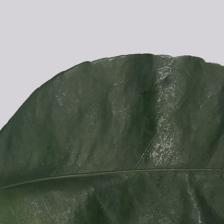healthy: (2, 58, 208, 224)
